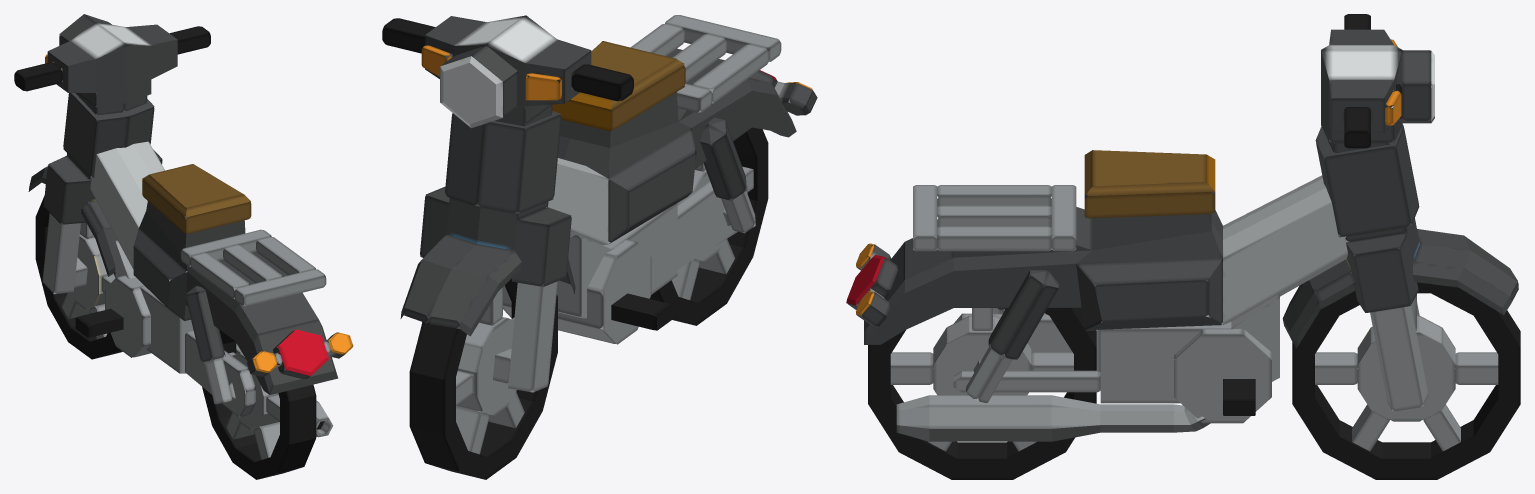
The model's file is Motorbike.fbx.
3 views of the same model, side by side, from view 1: azimuth 30°, elevation 25°; view 2: azimuth 150°, elevation 25°; view 3: azimuth 270°, elevation 25° (orthographic). The views are drawn at different scales.
Visible parts, largest first — view 1: cuboid, cuboid_9, cuboid_8, tube, engine, cylinder_1, cylinder_3, tube_1, cylinder_9, cylinder, cuboid_1, cylinder_2 (+10 smaller); view 2: cuboid_9, cuboid, cuboid_8, tube_1, cylinder_9, tube, cylinder_1, engine, cylinder_8, cylinder_3, cuboid_1, cylinder (+7 smaller); view 3: cuboid, cuboid_9, tube_1, cylinder_5, cylinder_9, tube, cuboid_8, engine, cylinder_1, cylinder, cylinder_4, cuboid_6 (+10 smaller).
Boxes of the visible parts, x1,y1,x2,y2 form: cuboid: [89, 141, 338, 394]; cuboid_9: [28, 93, 162, 294]; cuboid_8: [14, 22, 210, 115]; tube: [202, 330, 316, 479]; engine: [115, 240, 193, 373]; cylinder_1: [105, 271, 187, 357]; cylinder_3: [185, 285, 245, 404]; tube_1: [35, 196, 122, 359]; cylinder_9: [61, 222, 115, 339]; cylinder: [226, 352, 279, 459]; cuboid_1: [185, 330, 255, 416]; cylinder_2: [272, 329, 328, 379]; cuboid_9: [400, 106, 575, 392]; cuboid: [517, 41, 796, 245]; cuboid_8: [382, 15, 633, 131]; tube_1: [409, 278, 557, 479]; cylinder_9: [456, 287, 524, 454]; tube: [650, 127, 768, 325]; cylinder_1: [503, 238, 651, 344]; engine: [556, 203, 677, 318]; cylinder_8: [440, 45, 517, 128]; cylinder_3: [700, 117, 755, 233]; cuboid_1: [677, 180, 747, 269]; cylinder: [671, 163, 753, 300]; cuboid: [864, 150, 1349, 344]; cuboid_9: [1282, 122, 1518, 411]; tube_1: [1292, 282, 1520, 479]; cylinder_5: [896, 395, 1210, 441]; cylinder_9: [1315, 295, 1498, 451]; tube: [868, 308, 1096, 479]; cuboid_8: [1321, 14, 1402, 152]; engine: [1100, 294, 1279, 403]; cylinder_1: [1174, 328, 1271, 423]; cylinder: [890, 308, 1073, 451]; cylinder_4: [966, 270, 1058, 403]; cuboid_6: [937, 226, 1051, 251].
Size of the model in its own units: 212 by 356 by 517.
1 material, 1 textured.
